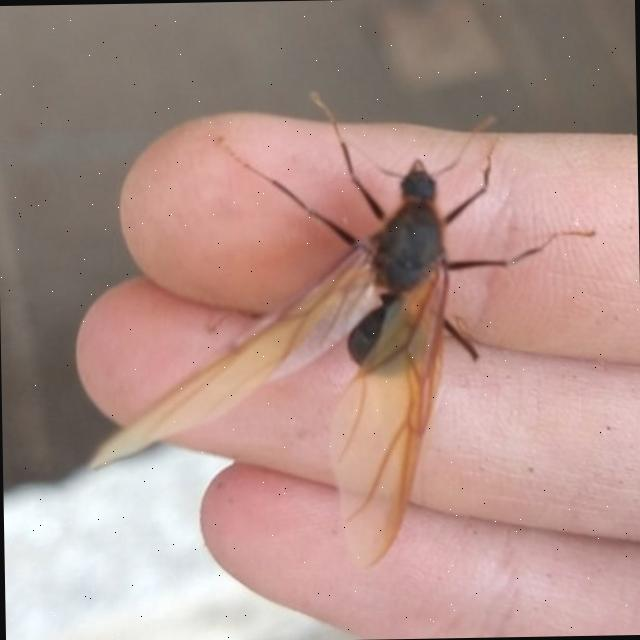Alive-Male-Alate: (82, 108, 604, 562)
